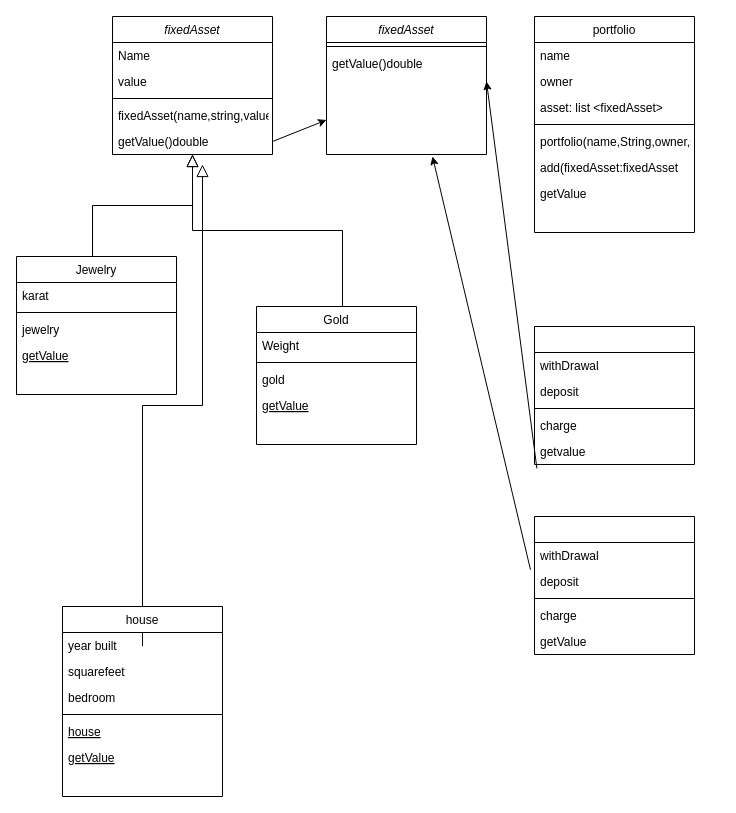
This 736x813 diagram has some shape labels left out. Each missing label, with the box of its shape:
bankAccount: (534, 516, 694, 654)
creditCard: (534, 326, 694, 464)
